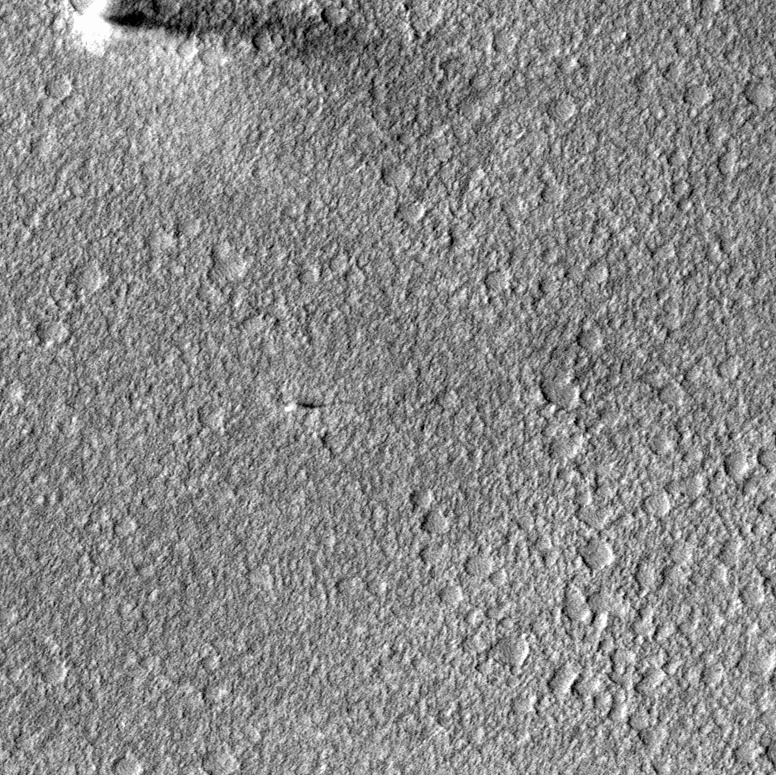dust_devil: (66, 1, 405, 69), (282, 398, 354, 413)
